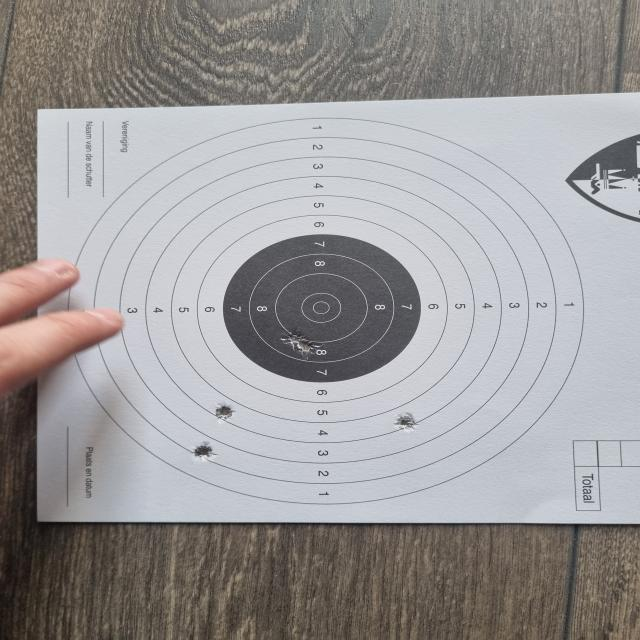2: (193, 442, 218, 459)
4: (394, 412, 419, 430), (215, 406, 237, 420)
8: (297, 340, 319, 358)
9: (281, 328, 302, 345)
Target: (66, 120, 589, 504)
black_contour: (225, 232, 424, 383)
